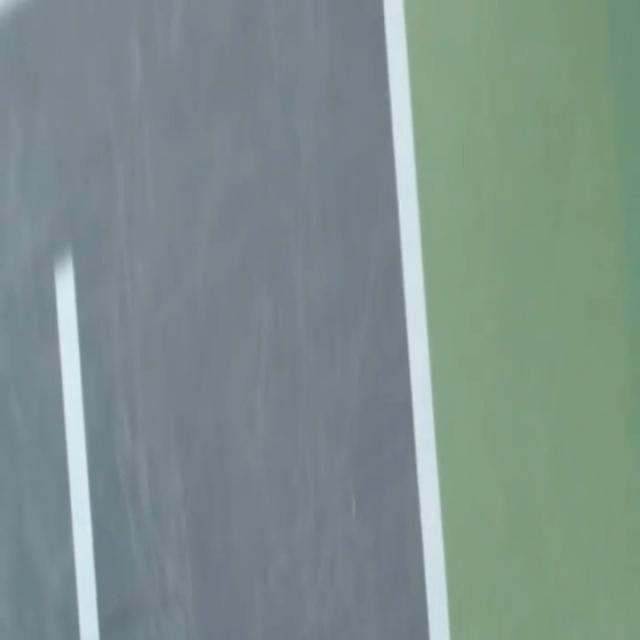center: (53, 251, 100, 639)
right: (383, 0, 450, 639)
